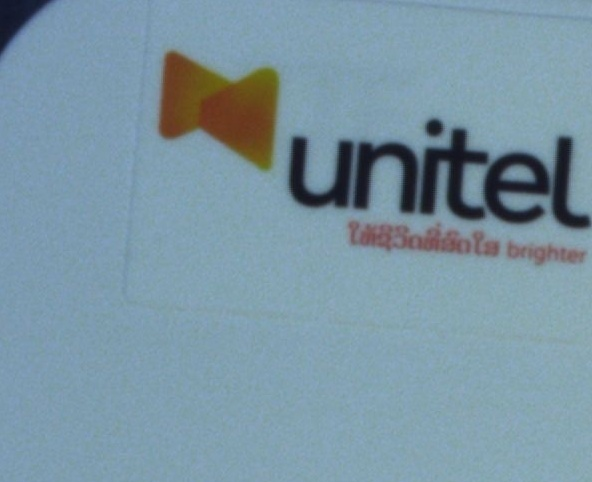BT_unitel: (155, 46, 590, 267)
